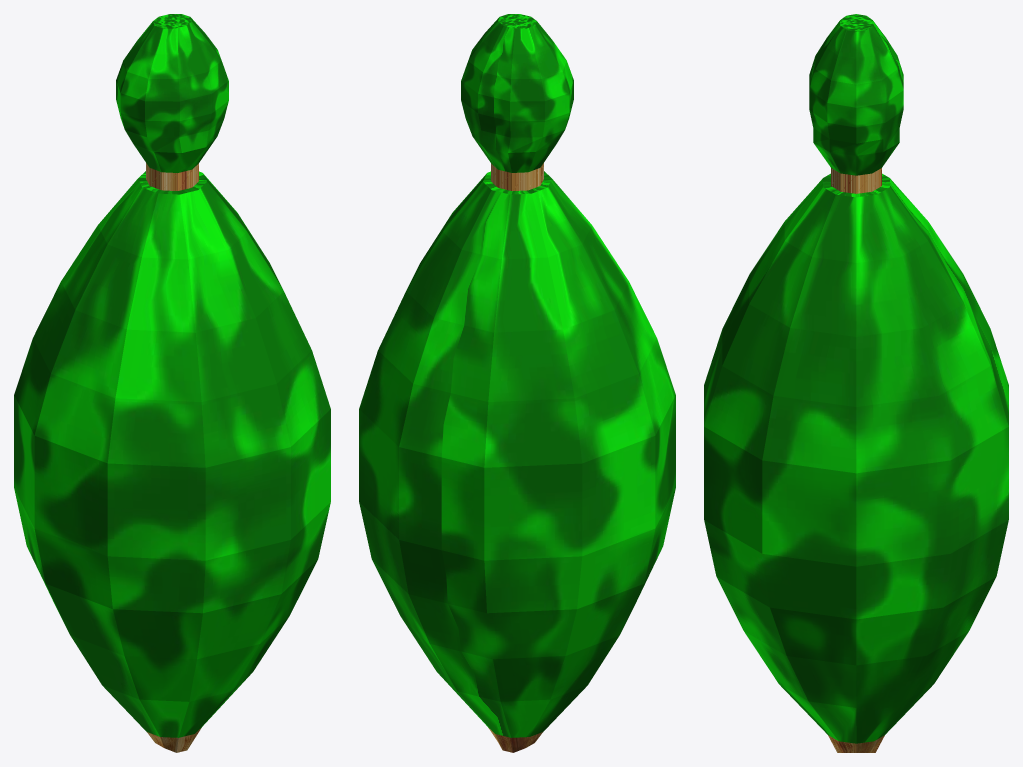
The model's file is potion.FBX.
3 renders of one model, left to right at view 1: azimuth 30°, elevation 25°; view 2: azimuth 150°, elevation 25°; view 3: azimuth 270°, elevation 25°, orthographic.
Visible parts, largest first — view 1: Cylinder001; view 2: Cylinder001; view 3: Cylinder001.
Boxes of the visible parts, x1=… form: Cylinder001: x1=14, y1=14, x2=330, y2=752; Cylinder001: x1=359, y1=14, x2=675, y2=752; Cylinder001: x1=704, y1=14, x2=1008, y2=752.
Bounding box in the file's own units: 0.4477 × 1.12 × 0.4258.
2 materials, 2 textured.
